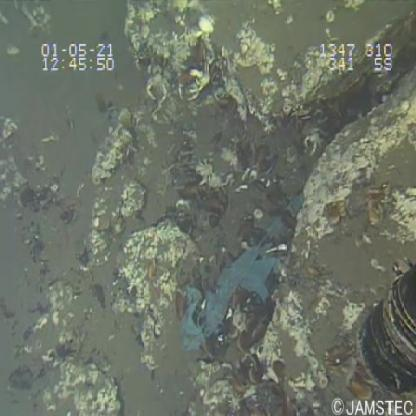Rov: (356, 259, 415, 397)
Rác: (179, 190, 305, 354)
